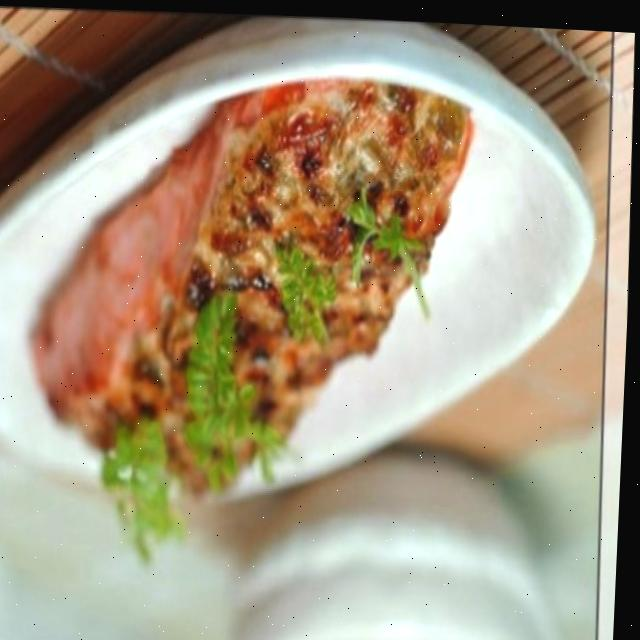熟制海鲜: (0, 18, 561, 563)
